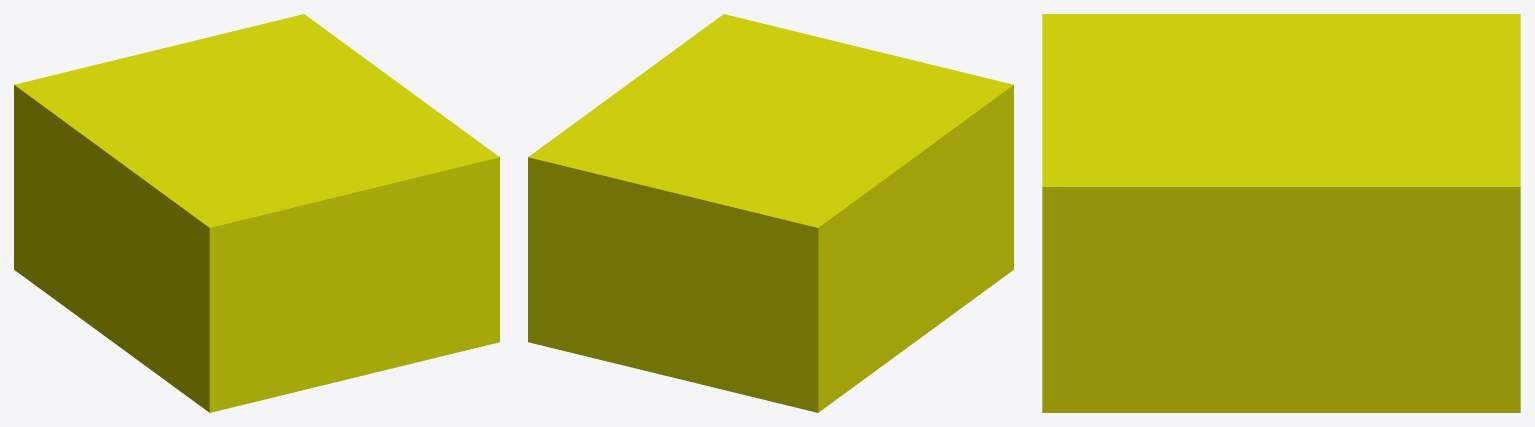
Rendered from musicbox2.fbx.
3 renders of one model, left to right at view 1: azimuth 30°, elevation 25°; view 2: azimuth 150°, elevation 25°; view 3: azimuth 270°, elevation 25°, orthographic. The views are drawn at different scales.
Parts seen in each view (by area): view 1: musicbox2; view 2: musicbox2; view 3: musicbox2.
Boxes of the visible parts, x1=… form: musicbox2: x1=14, y1=14, x2=499, y2=412; musicbox2: x1=528, y1=14, x2=1013, y2=412; musicbox2: x1=1042, y1=14, x2=1520, y2=412.
Size of the model in its own units: 1.09 by 0.6663 by 1.28.
